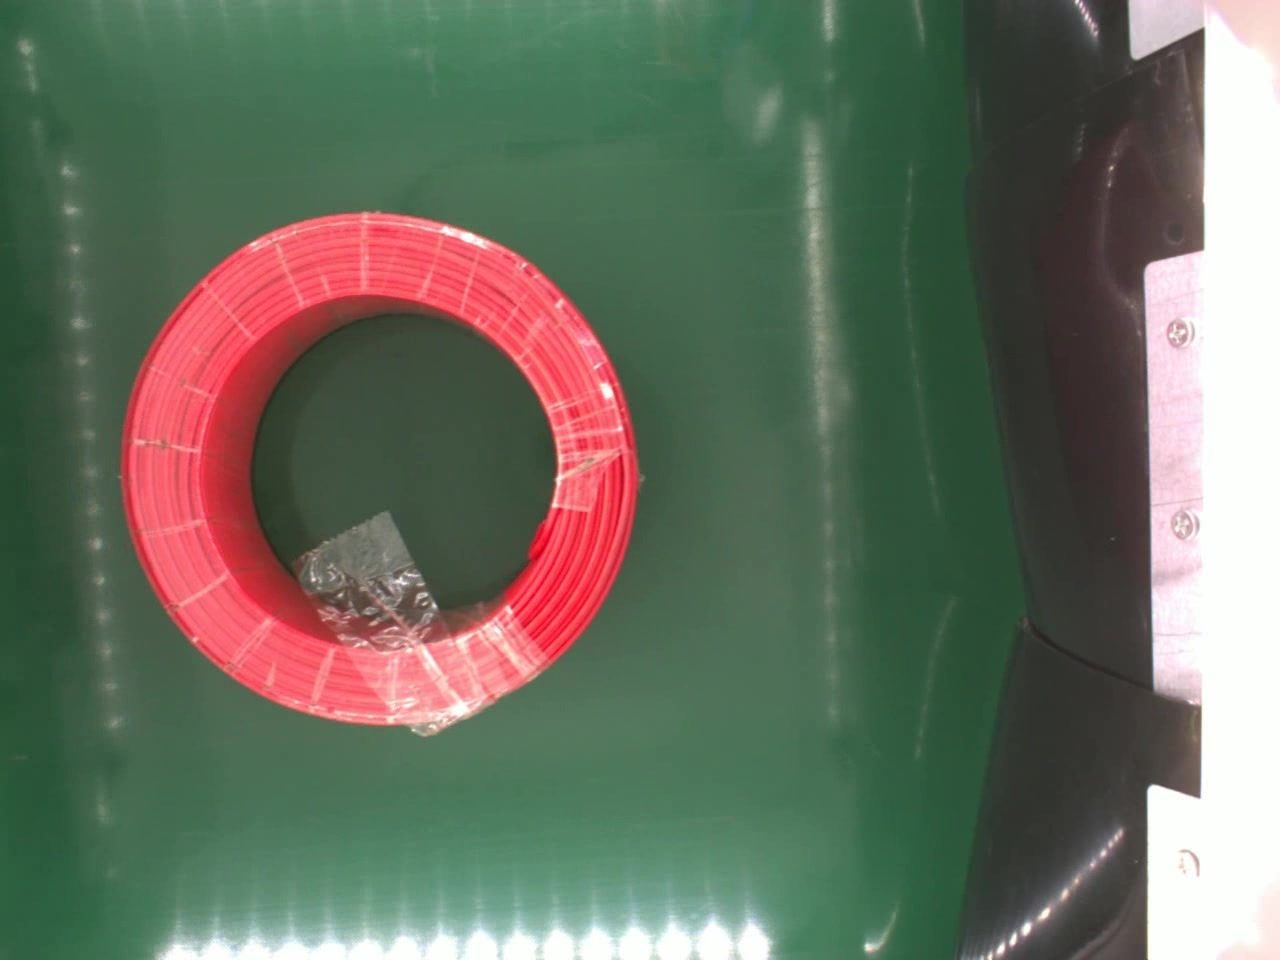red: (116, 206, 638, 727)
